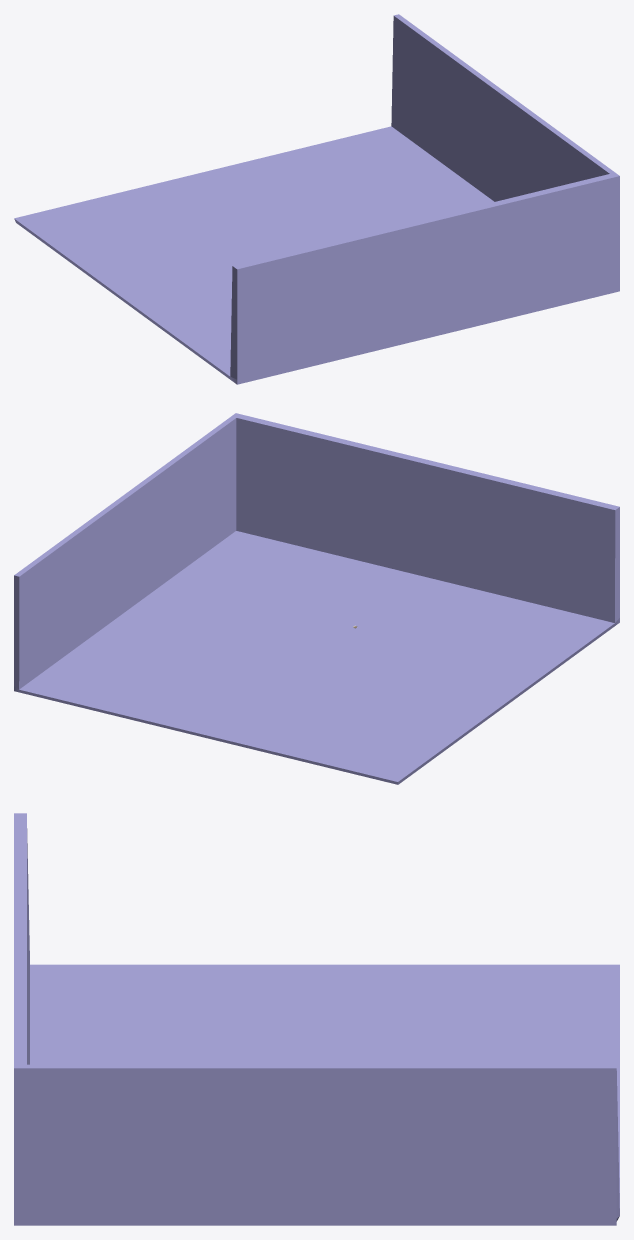
File: gamelle_nourriture.fbx
3 renders of one model, top to bottom at view 1: azimuth 30°, elevation 25°; view 2: azimuth 150°, elevation 25°; view 3: azimuth 270°, elevation 25°, orthographic. The views are drawn at different scales.
Parts seen in each view (by area): view 1: plancher; view 2: plancher; view 3: plancher.
Boxes of the visible parts, <box> form: plancher: <box>14,14,619,384</box>; plancher: <box>14,413,619,784</box>; plancher: <box>14,813,619,1225</box>.
Size of the model in its own units: 73.12 by 21 by 73.34.
